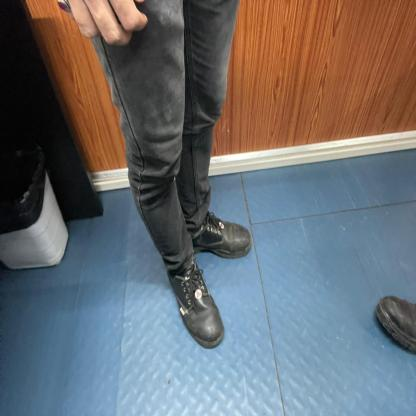bota: (166, 255, 226, 351), (194, 210, 254, 260), (370, 288, 416, 349)
